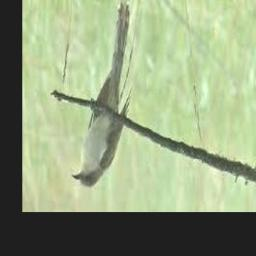Cuckoo: (73, 0, 134, 187)
